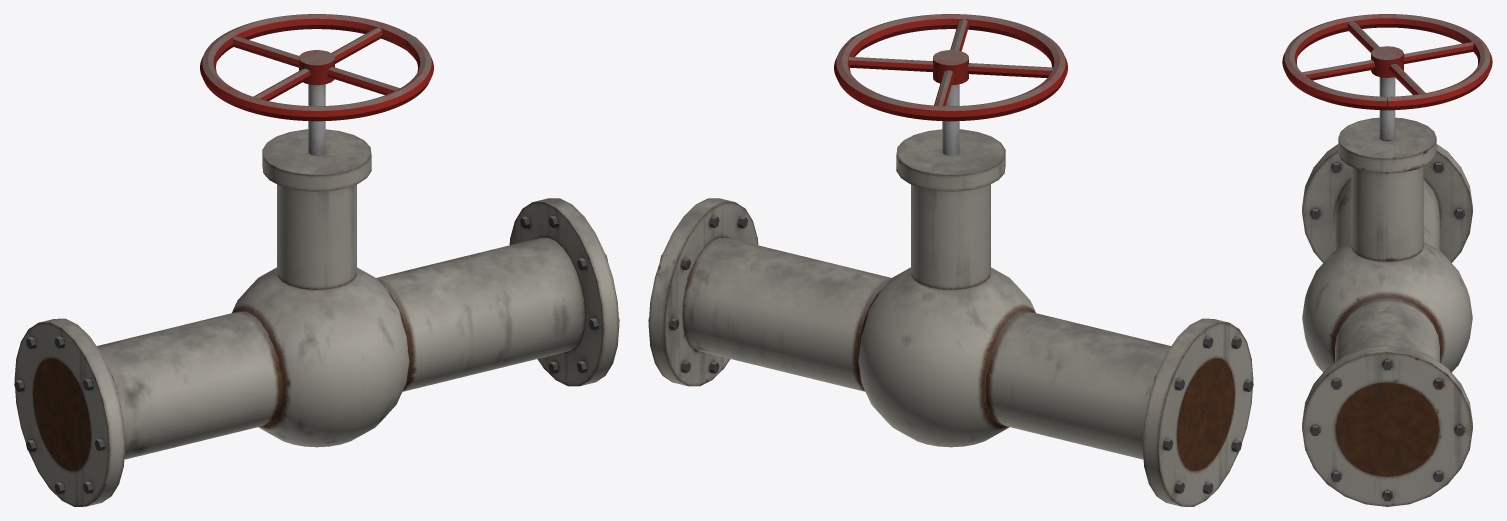
The model's file is SM_Pipe_Valve_Handwheel.fbx.
The picture shows the model from 3 angles, left to right: view 1: azimuth 30°, elevation 25°; view 2: azimuth 150°, elevation 25°; view 3: azimuth 270°, elevation 25°; orthographic projection. The views are drawn at different scales.
Visible parts, largest first — view 1: SM_Pipe_Valve_Handwheel; view 2: SM_Pipe_Valve_Handwheel; view 3: SM_Pipe_Valve_Handwheel.
Part boxes in pixels (x1,y1,x2,y2): SM_Pipe_Valve_Handwheel: (14,14,619,506); SM_Pipe_Valve_Handwheel: (648,14,1253,506); SM_Pipe_Valve_Handwheel: (1282,14,1492,506).
Size of the model in its own units: 0.82 by 0.575 by 0.3201.
1 material, 1 textured.
